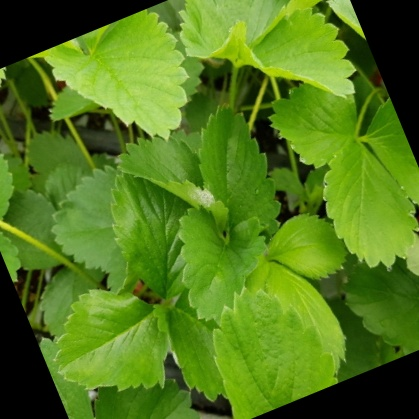Powdery_Leaf: (139, 116, 229, 236)
